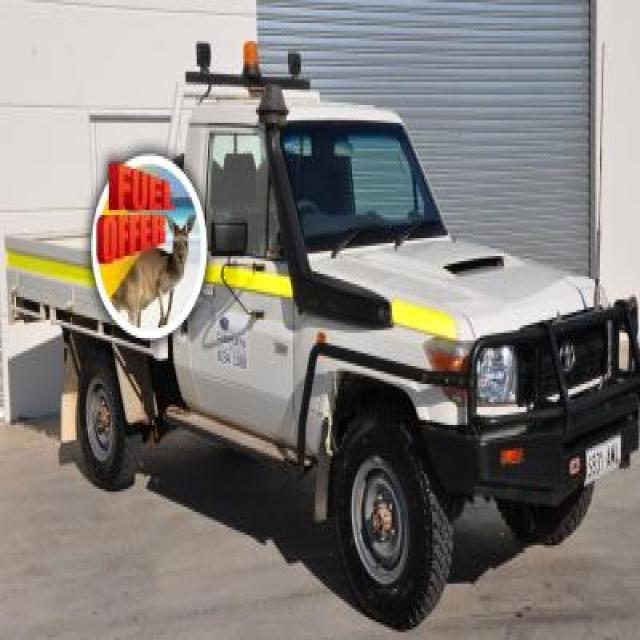light_vehicle: (6, 54, 638, 630)
